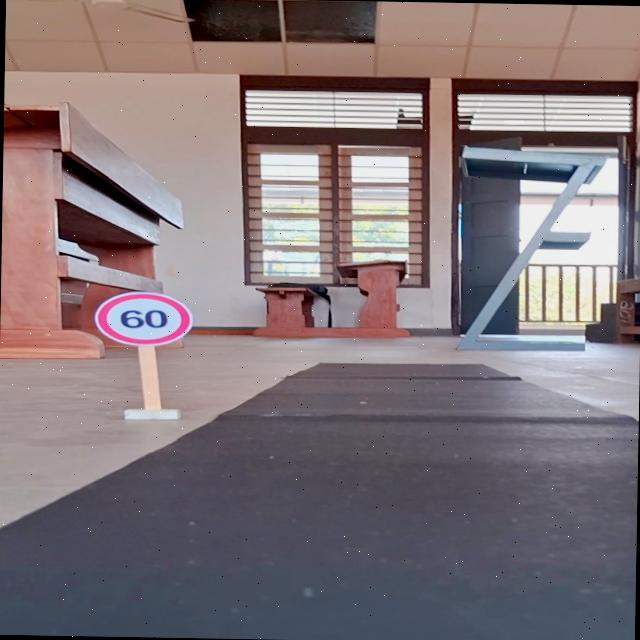Speed60: (91, 288, 196, 348)
